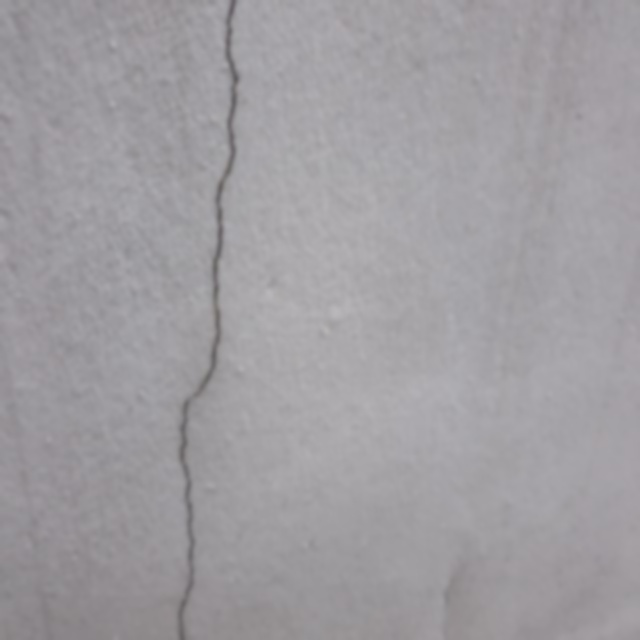SurfaceCrack: (136, 0, 282, 640)
